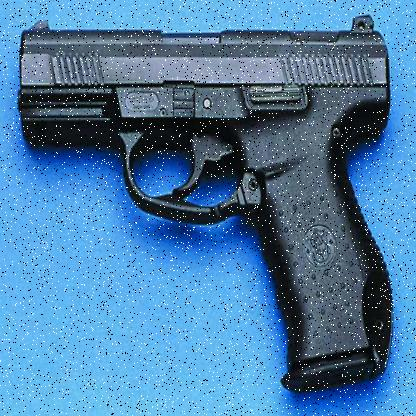pistol: (20, 17, 395, 391)
